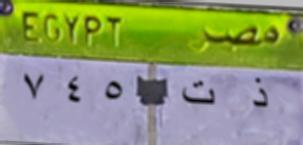4: (64, 73, 85, 107)
5: (104, 78, 123, 104)
7: (22, 71, 45, 104)
taa: (177, 76, 217, 112)
zaal: (250, 74, 271, 111)
